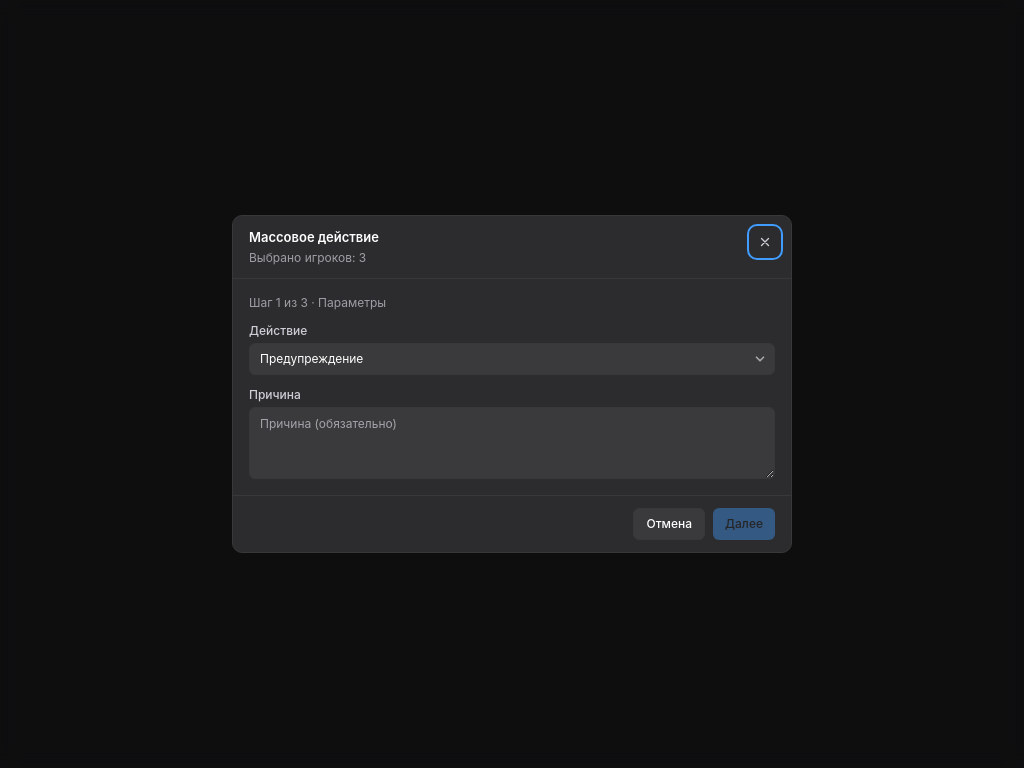
Scenario: BulkModerationModal › keeps «Далее» disabled until a reason is typed
Expected: the button "Далее" is disabled, [713,508,775,540]
Type "Читы" into the text box labelled "Причина".
click(512, 443); type("Читы")  # box [249,407,775,479]
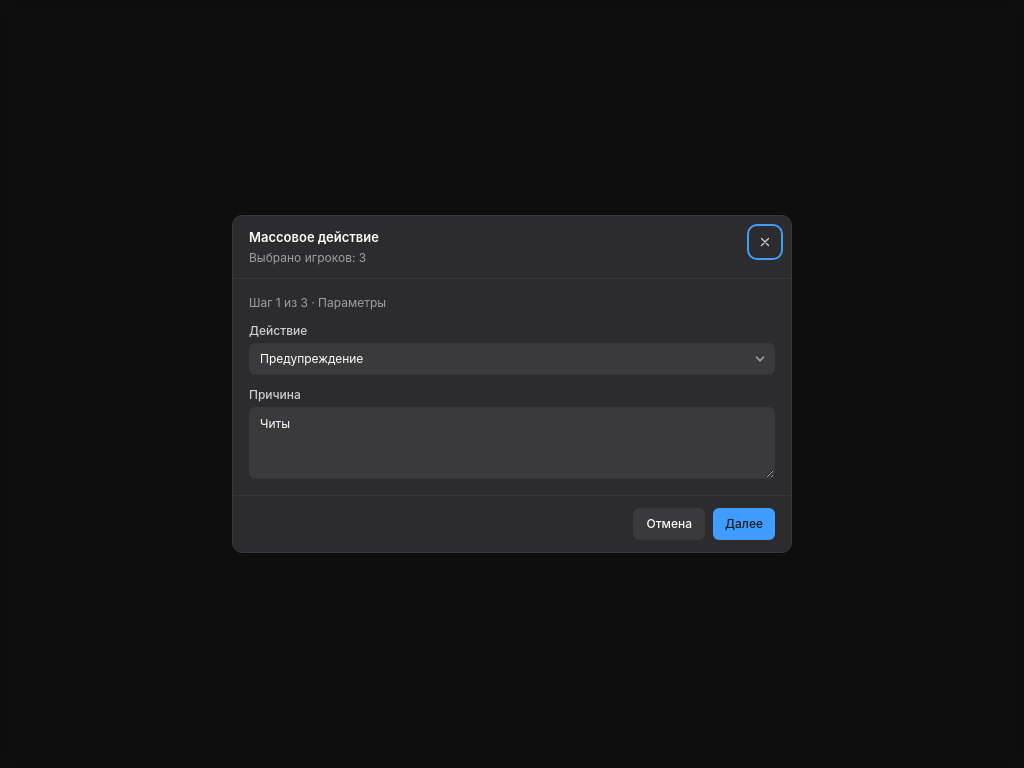
Now the button "Далее" is enabled, box [713,508,775,540]
